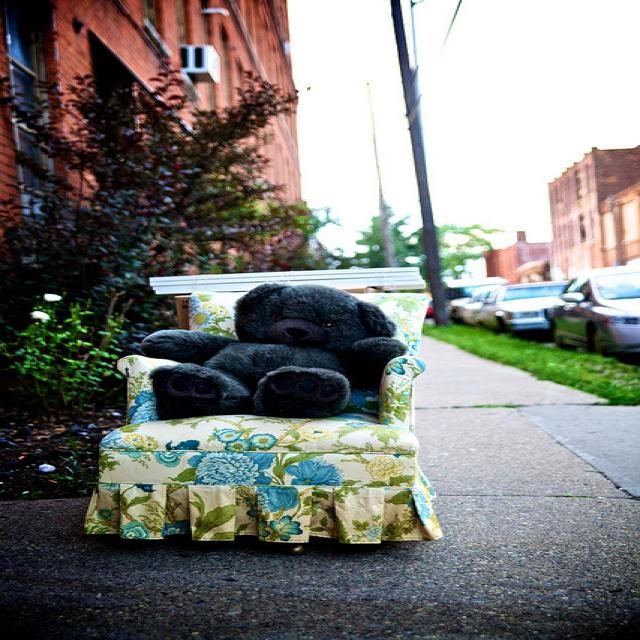Vehicle: (541, 265, 640, 356), (471, 282, 567, 332)
